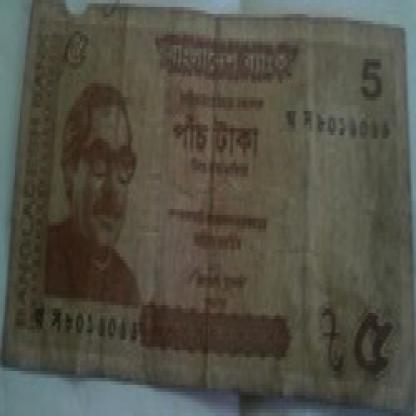Five Taka: (351, 305, 399, 388), (58, 21, 95, 80), (360, 48, 384, 111)
